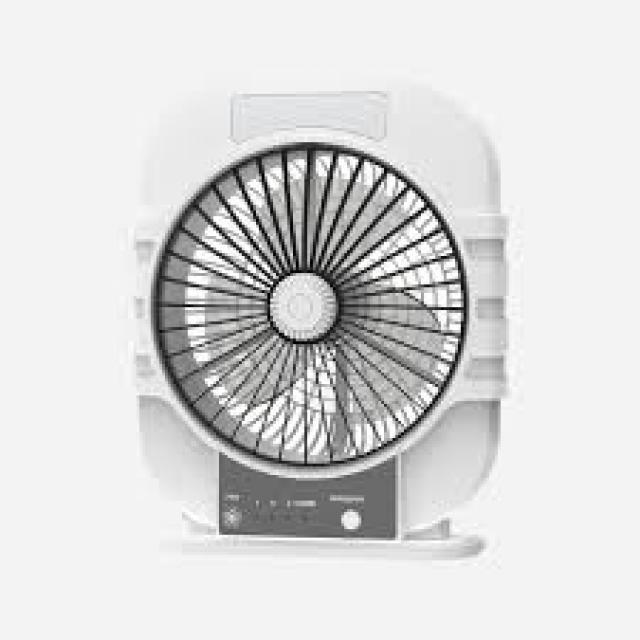fan: (81, 50, 534, 578)
